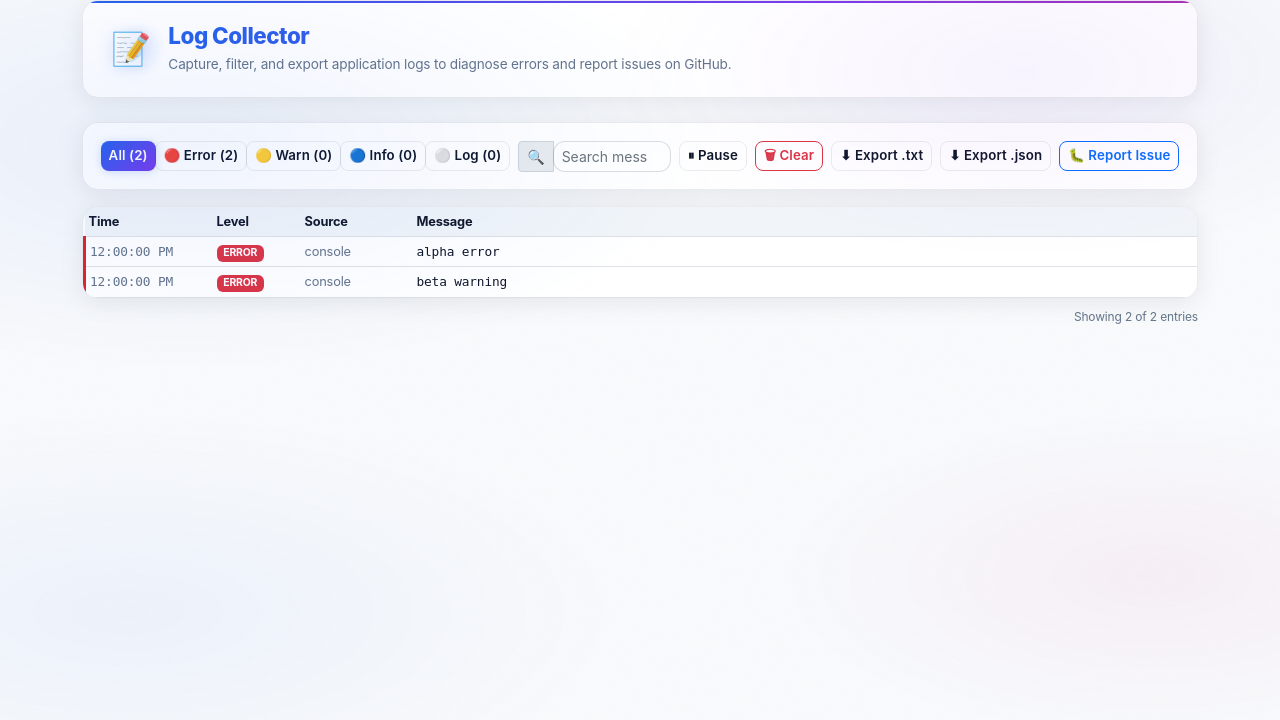
it: LogCollector Component › filters entries by search query
The width and height of the screenshot is (1280, 720).
Type "alpha" into the search field with placeholder "Search messages…". click: (612, 156)
box: [553,141,671,172]
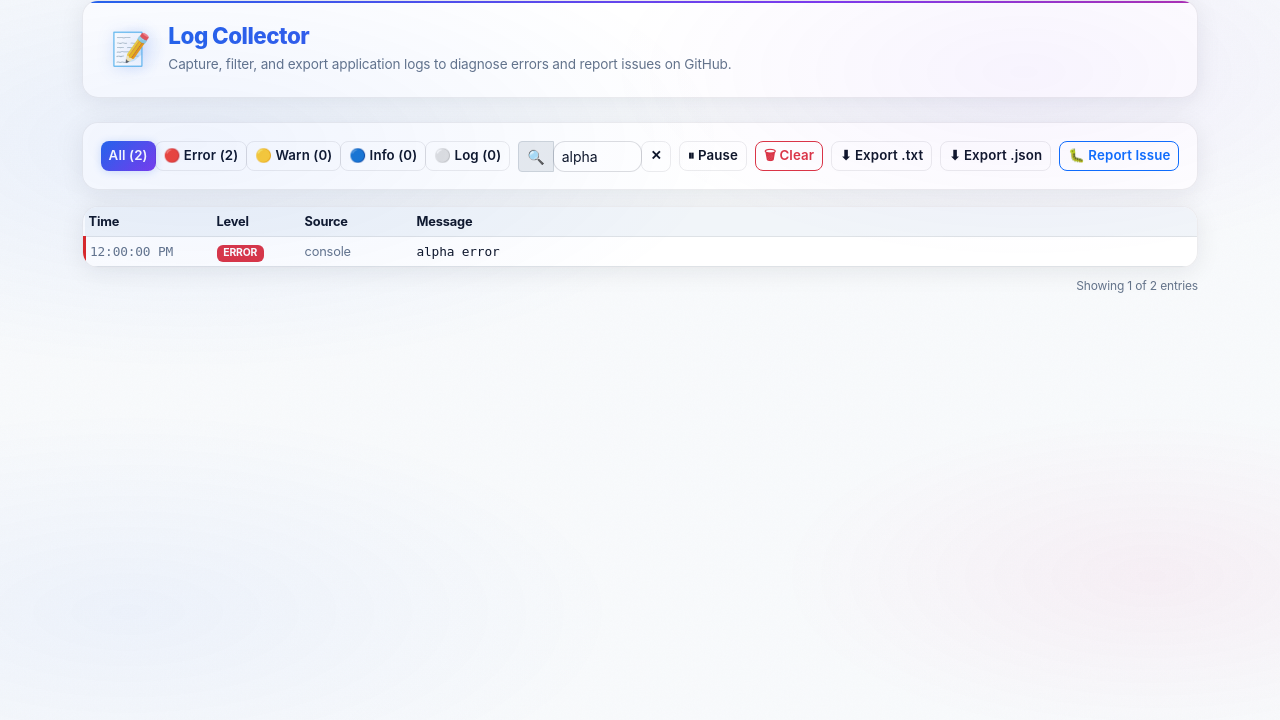
Expected: the text "alpha error" is shown, [412,237,1197,267]
Now the text "beta warning" is gone
